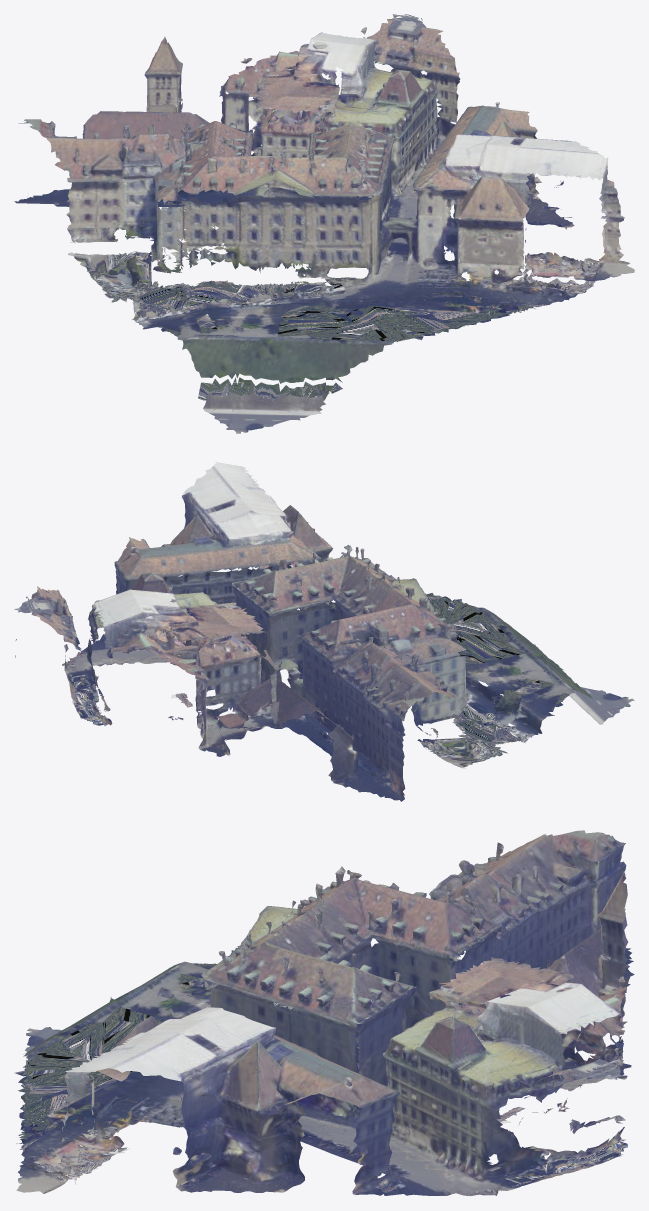
3 views of the same model, one above another, from view 1: azimuth 30°, elevation 25°; view 2: azimuth 150°, elevation 25°; view 3: azimuth 270°, elevation 25° (orthographic). The views are drawn at different scales.
Size of the model in its own units: 104 by 47.76 by 104.
Materials: 1 (1 with a texture image).
